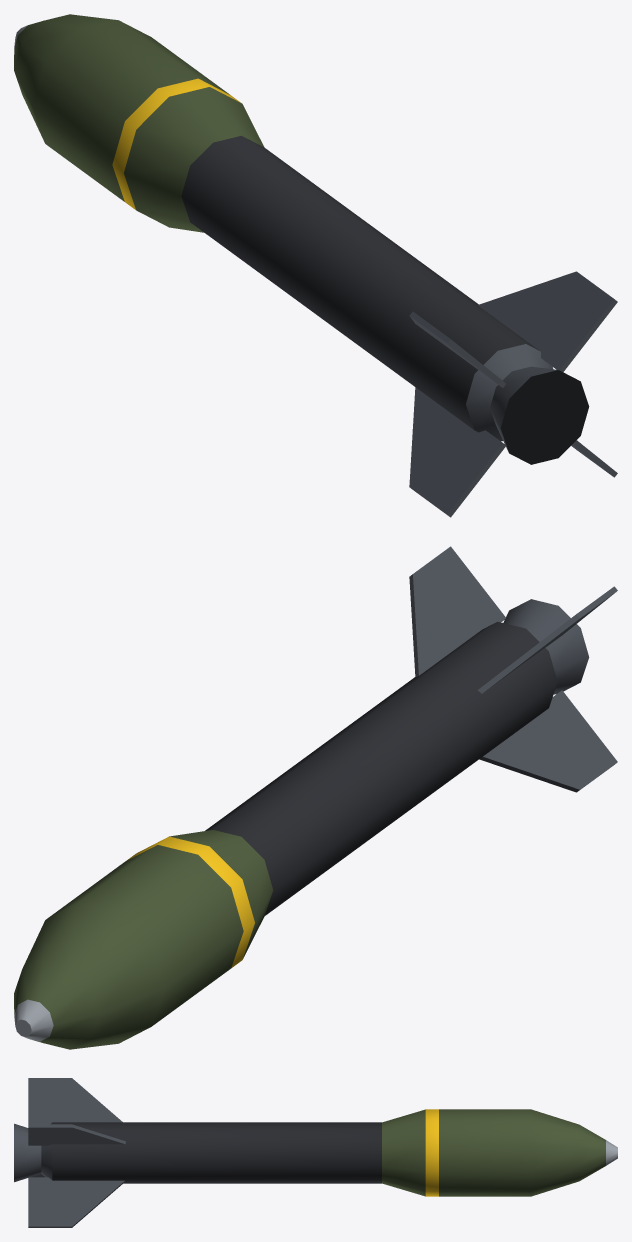
File: rocket.glb
3 views of the same model, one above another, from view 1: azimuth 30°, elevation 25°; view 2: azimuth 150°, elevation 25°; view 3: azimuth 270°, elevation 25° (orthographic). The views are drawn at different scales.
Parts seen in each view (by area): view 1: rocket__body; view 2: rocket__body; view 3: rocket__body.
Boxes of the visible parts, <box> form: rocket__body: <box>14,14,617,517</box>; rocket__body: <box>14,546,617,1049</box>; rocket__body: <box>14,1078,617,1227</box>.
Size of the model in its own units: 0.1039 by 0.1039 by 0.55.
1 material, 1 textured.
